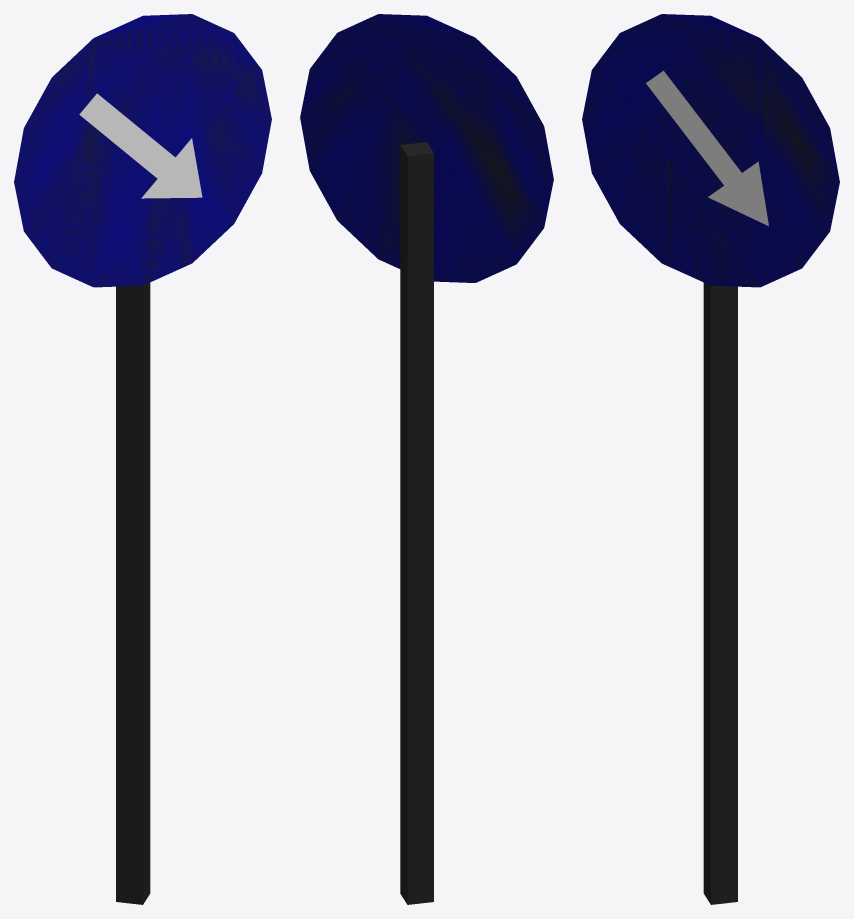
Rendered from rightside.obj.
The picture shows the model from 3 angles, left to right: view 1: azimuth 30°, elevation 25°; view 2: azimuth 150°, elevation 25°; view 3: azimuth 330°, elevation 25°; orthographic projection.
Parts seen in each view (by area): view 1: Cylinder.003; view 2: Cylinder.003; view 3: Cylinder.003.
Part boxes in pixels (left/top/right/bottom): Cylinder.003: left=14, top=14, right=271, bottom=904; Cylinder.003: left=300, top=14, right=553, bottom=904; Cylinder.003: left=582, top=14, right=839, bottom=904.
Size of the model in its own units: 0.8957 by 2.95 by 0.1234.
